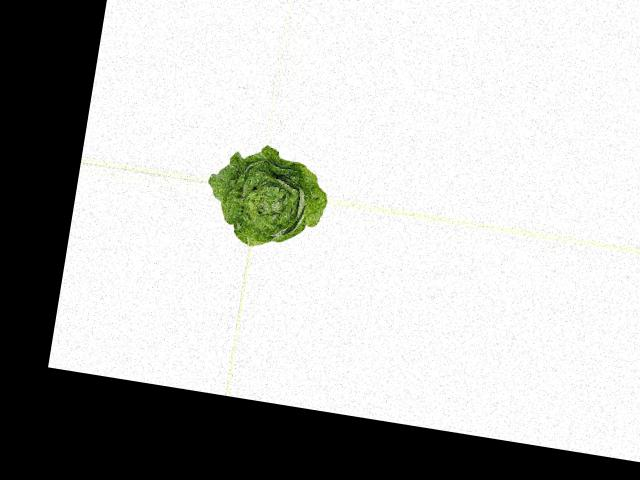lettuce: (203, 137, 335, 256)
